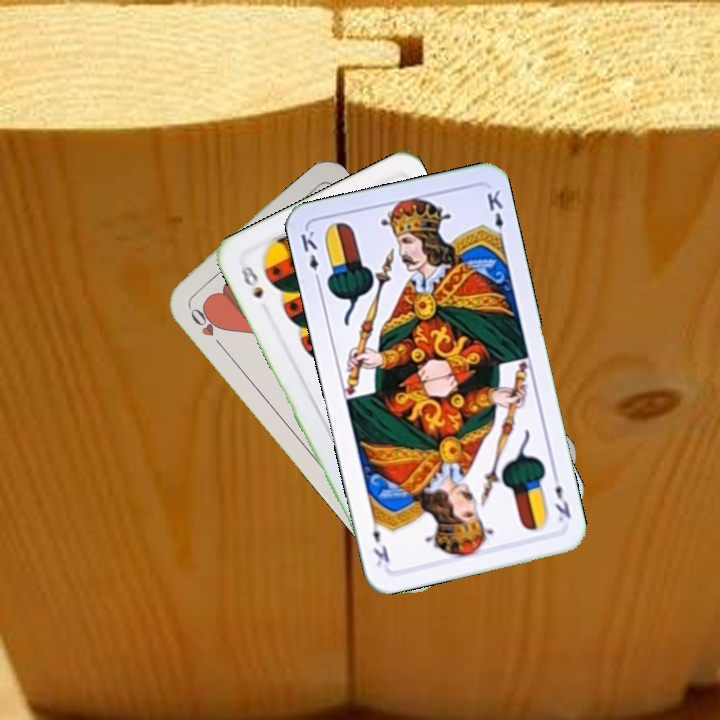EK: (296, 227, 323, 286), (548, 469, 574, 525)
HO: (184, 301, 226, 351)
S8: (237, 262, 266, 302)
